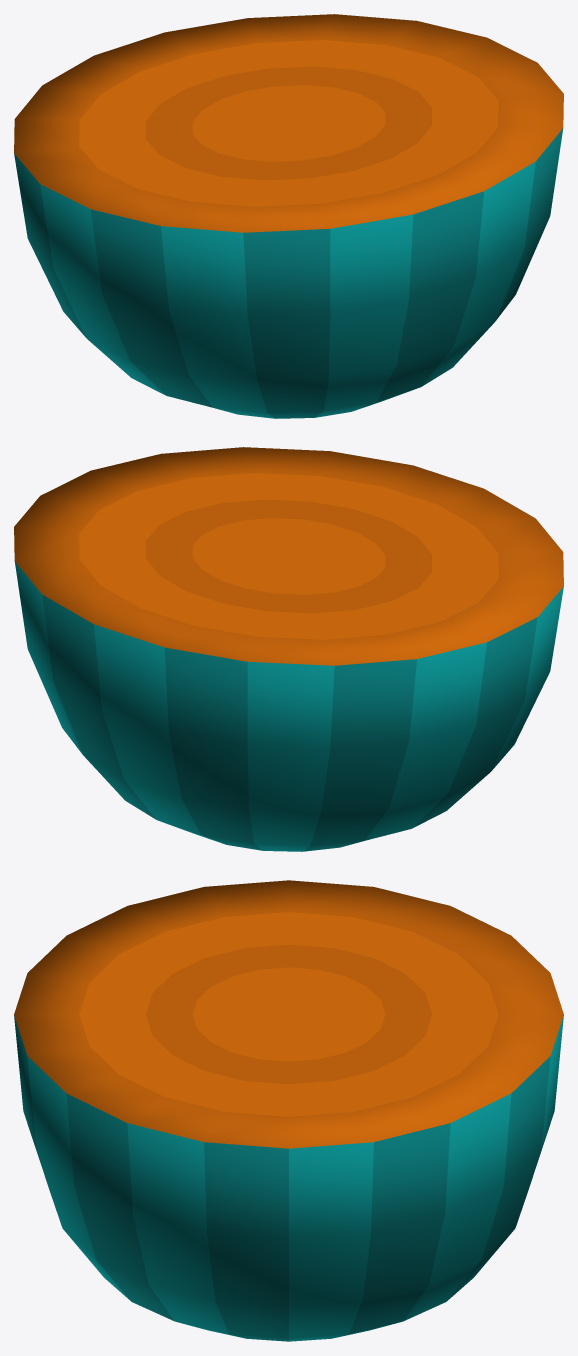
The model's file is Onion_red_half_01.fbx.
The picture shows the model from 3 angles, top to bottom: view 1: azimuth 30°, elevation 25°; view 2: azimuth 150°, elevation 25°; view 3: azimuth 270°, elevation 25°; orthographic projection. The views are drawn at different scales.
Visible parts, largest first — view 1: Onion_red_half_01; view 2: Onion_red_half_01; view 3: Onion_red_half_01.
Part boxes in pixels (bbox=[...]): Onion_red_half_01: bbox=[14, 14, 563, 418]; Onion_red_half_01: bbox=[14, 447, 563, 851]; Onion_red_half_01: bbox=[14, 880, 563, 1341].
Bounding box in the file's own units: 52.71 × 45.65 × 27.
